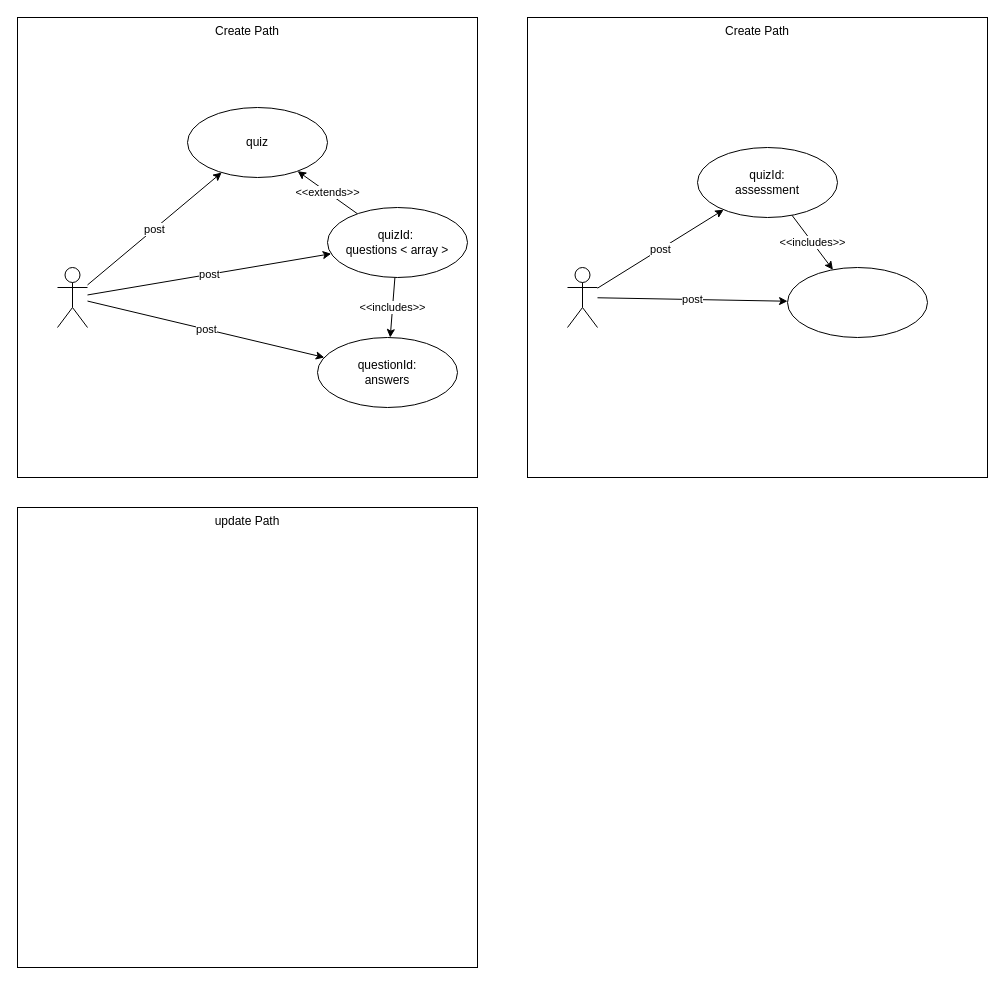
Some shapes in this 1005 by 985 pixel diagram are drawn without their labels. The shapes that lost their labels are listed below. From the top down, each one's centre as x and y in pixels, then its label:
At point 72,297: "examinar".
At point 582,297: "student".
At point 857,302: "assessmentId: response".
